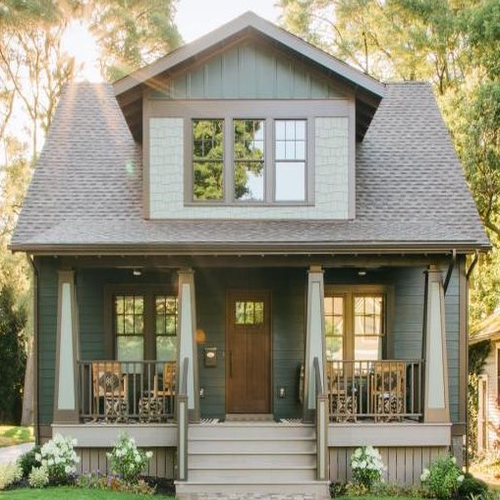Tin-shade House: (4, 22, 483, 465)
